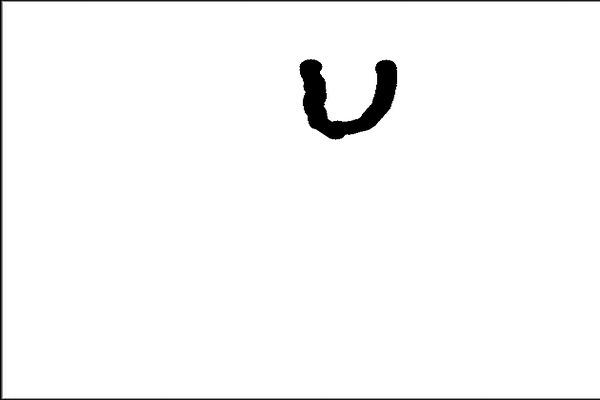U: (292, 50, 406, 142)
